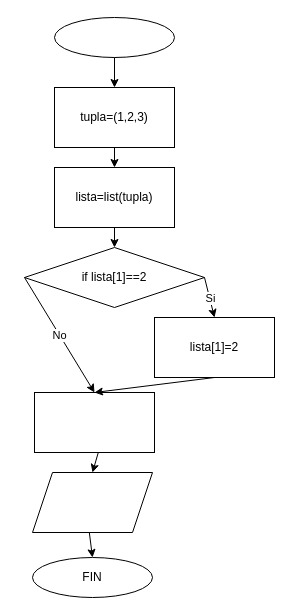
The diagram is 292 pixels wide and 615 high, and some of its shapes have lost their labels. The shapes that lost their labels are listed below. From the top down, each one's centre as x and y in pixels, then its label:
At (x=114, y=37): "INICIO".
At (x=94, y=422): "tupla=tuple(lista)".
At (x=92, y=502): "print(tupla)".
